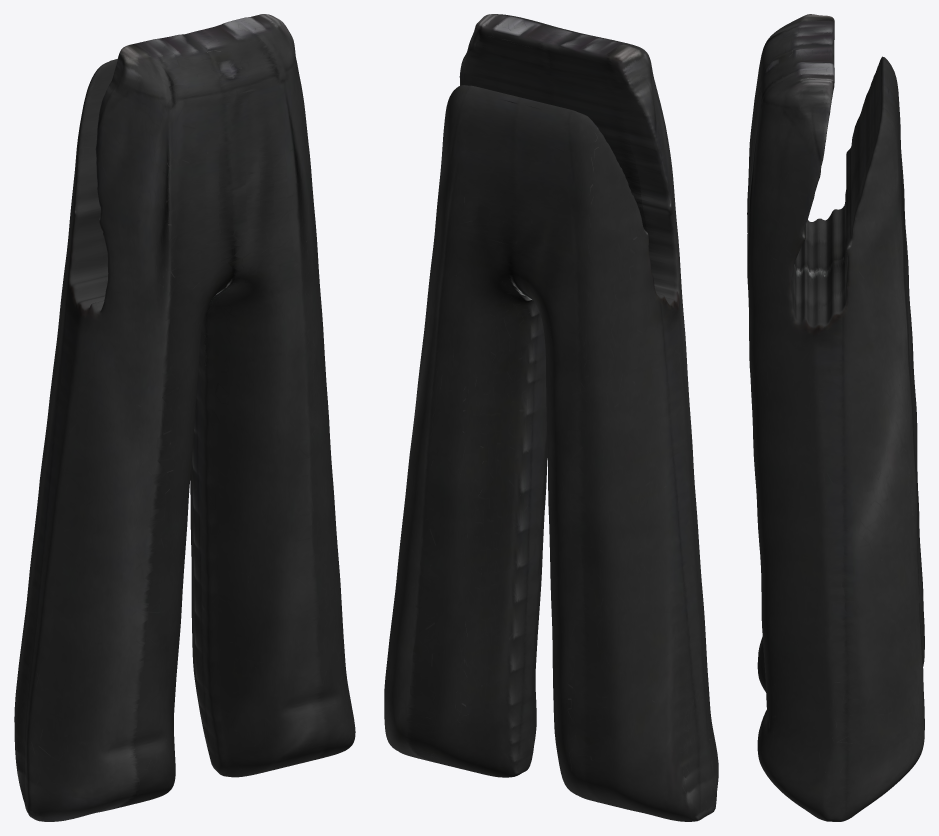
File: NF016-worn-v3.glb
The picture shows the model from 3 angles, left to right: view 1: azimuth 30°, elevation 25°; view 2: azimuth 150°, elevation 25°; view 3: azimuth 270°, elevation 25°; orthographic projection. The views are drawn at different scales.
Visible parts, largest first — view 1: NF016_worn_photo_fitted; view 2: NF016_worn_photo_fitted; view 3: NF016_worn_photo_fitted.
Part boxes in pixels (x1,y1,x2,y2): NF016_worn_photo_fitted: [14, 14, 355, 821]; NF016_worn_photo_fitted: [384, 14, 718, 821]; NF016_worn_photo_fitted: [747, 14, 924, 821].
Size of the model in its own units: 0.4852 by 1.08 by 0.2461.
1 material, 1 textured.
